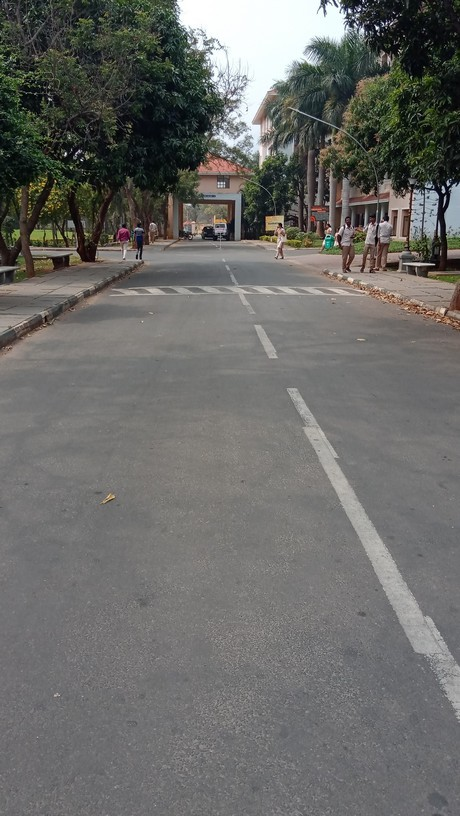bump: (101, 285, 371, 297)
